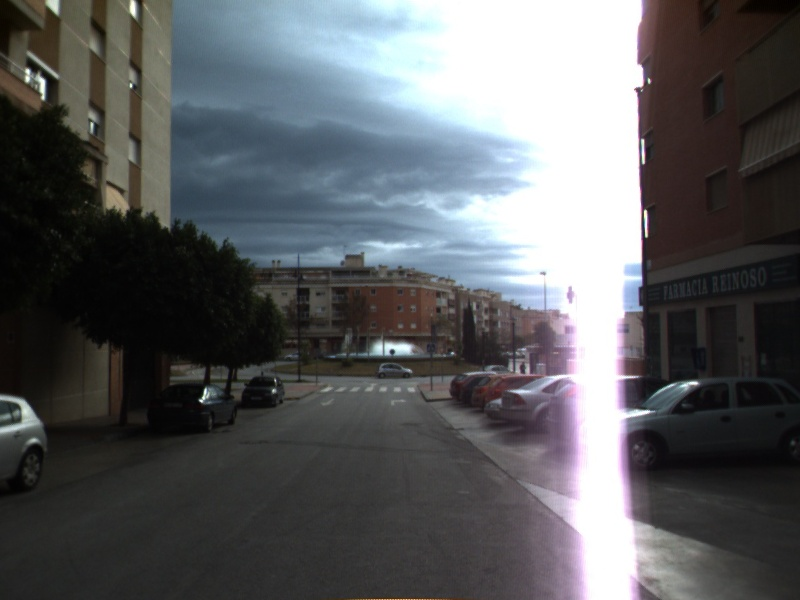RIGHT: (389, 397, 409, 407)
